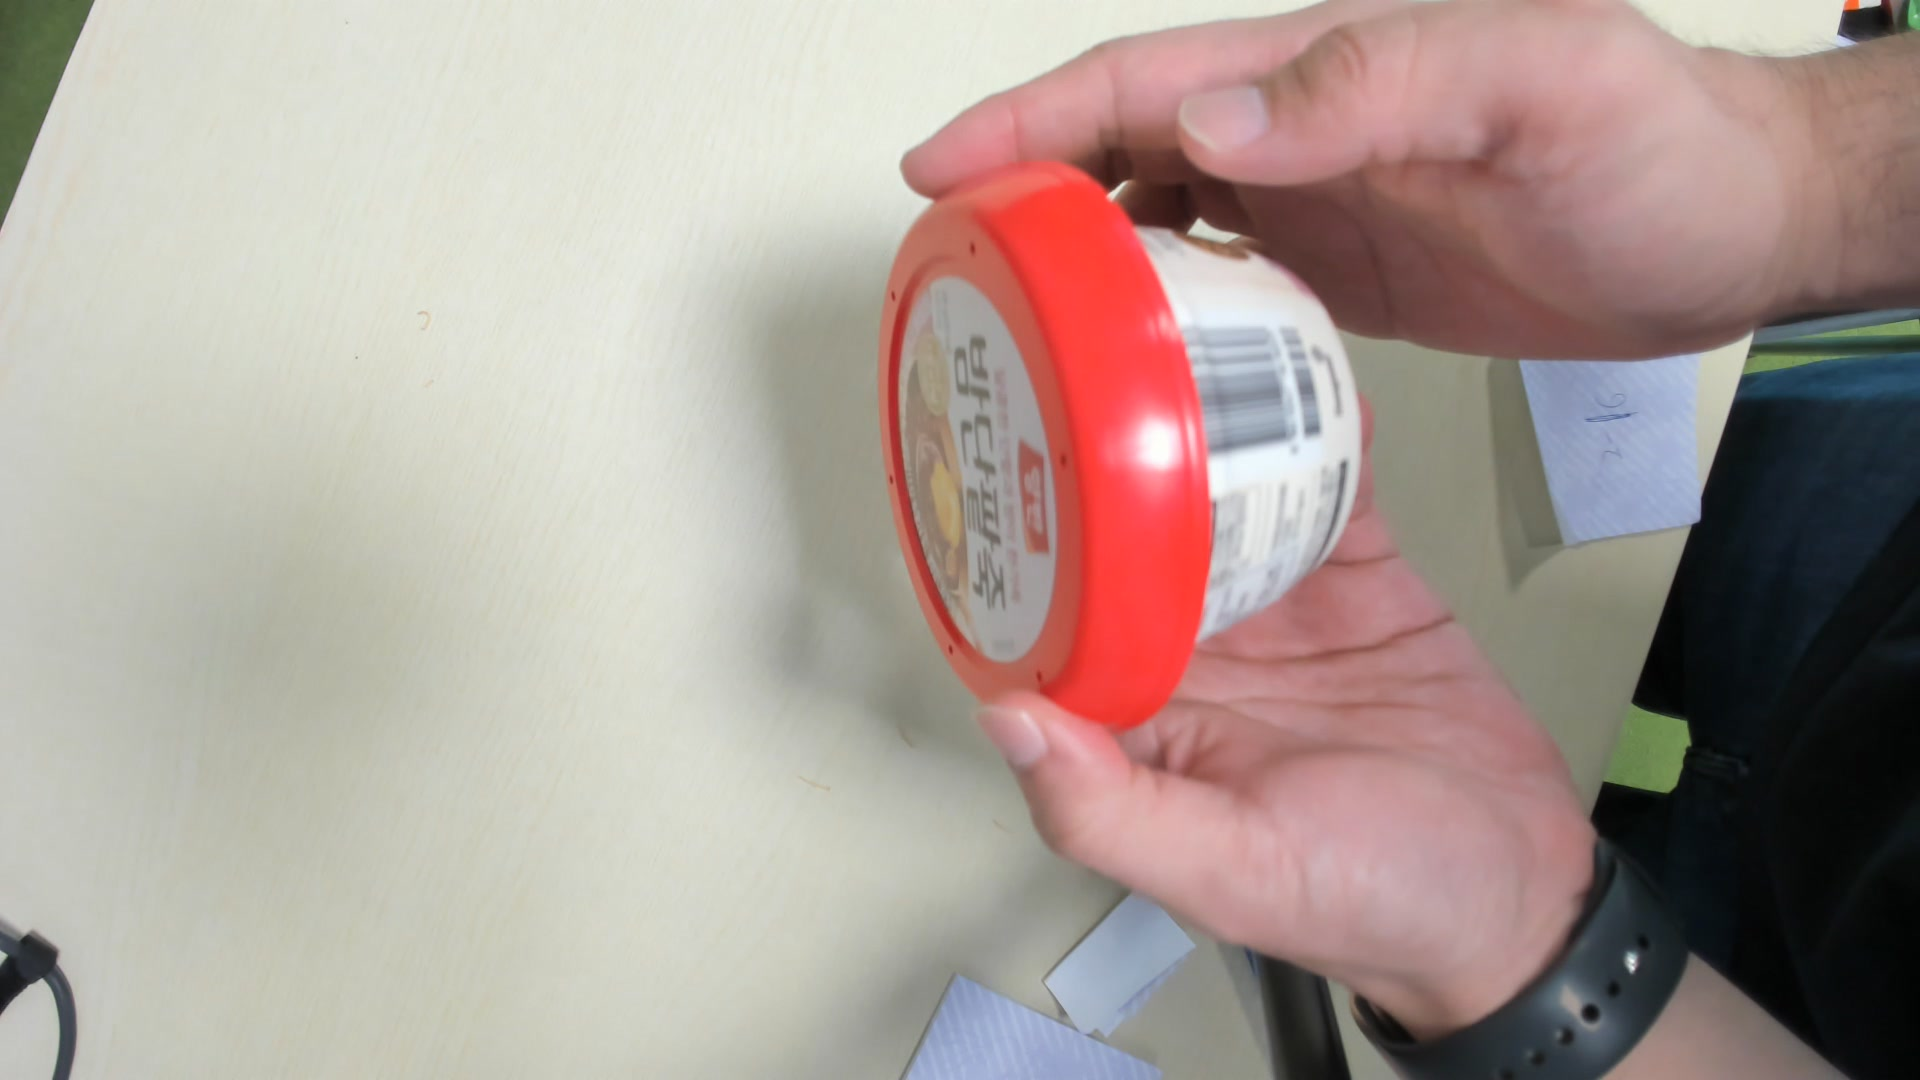InstantMeals_200_299g_NonHalal_NonHealthy: (880, 160, 1364, 741)
